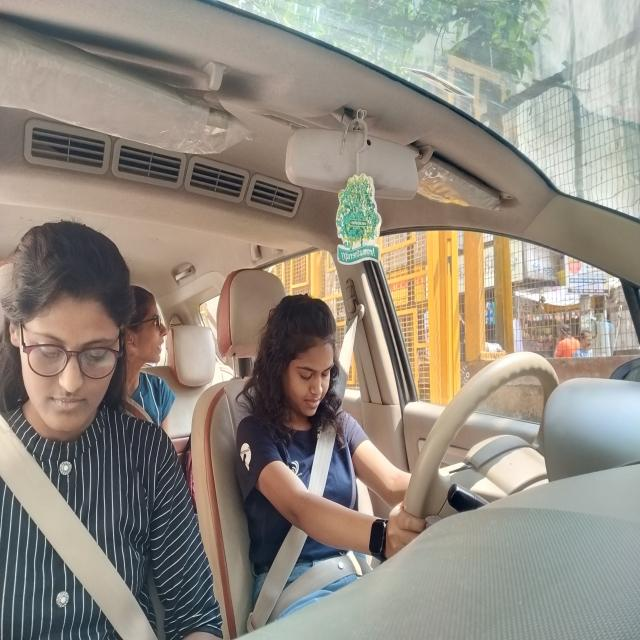drowsy: (260, 287, 340, 430)
person: (10, 221, 132, 433), (126, 277, 167, 373)
